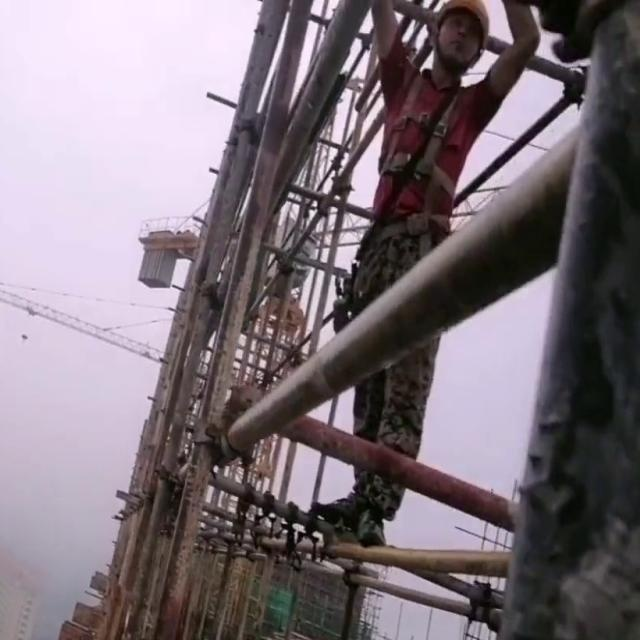Arnes_seguridad: (372, 57, 469, 201)
